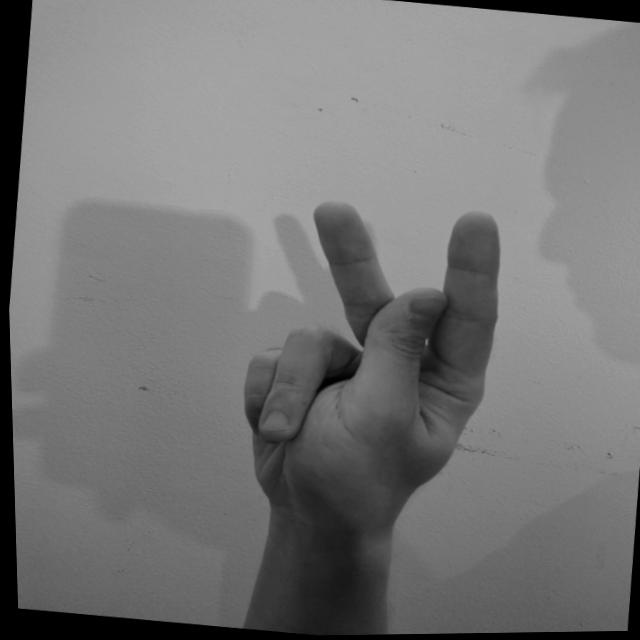K: (215, 181, 520, 550)
